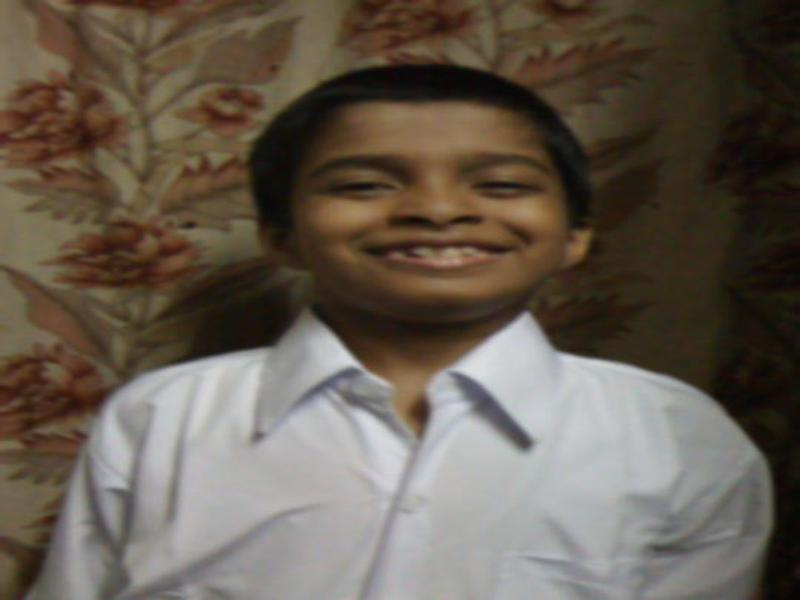without_mask: (289, 119, 568, 321)
